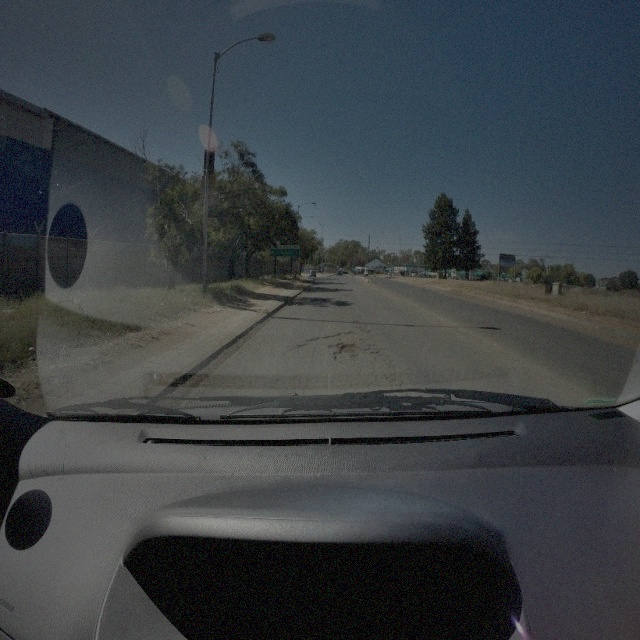pothole: (284, 330, 334, 349), (338, 342, 360, 354), (328, 326, 354, 336)
